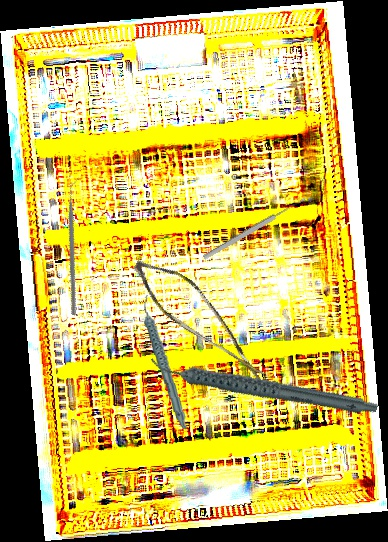Chopper: (11, 177, 141, 317)
Handpiece: (148, 311, 380, 458), (142, 292, 188, 432)
Micro Scissor: (116, 251, 288, 383)
Surgical Spoon: (202, 196, 307, 261)
